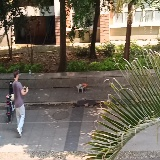fire: (82, 82, 87, 88)
